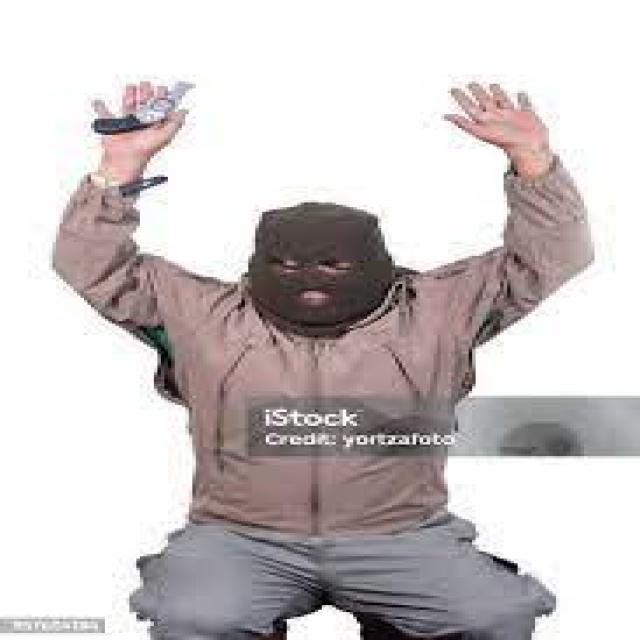6_pasamontana: (241, 200, 404, 339)
